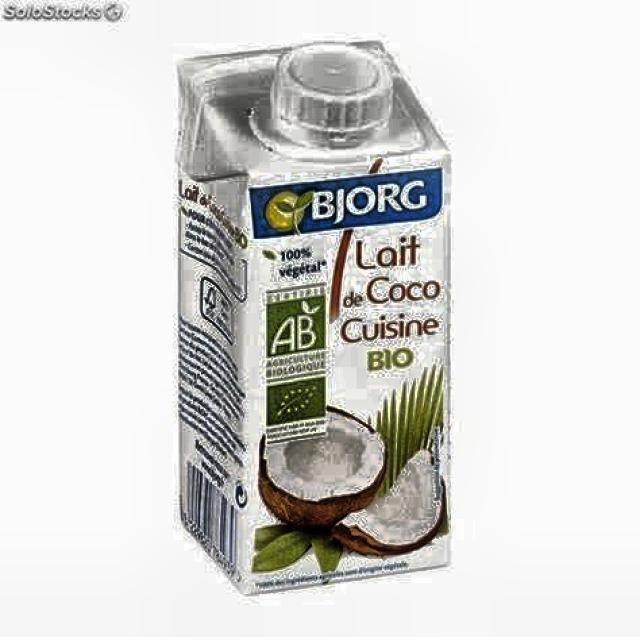cardboard: (174, 38, 452, 594)
